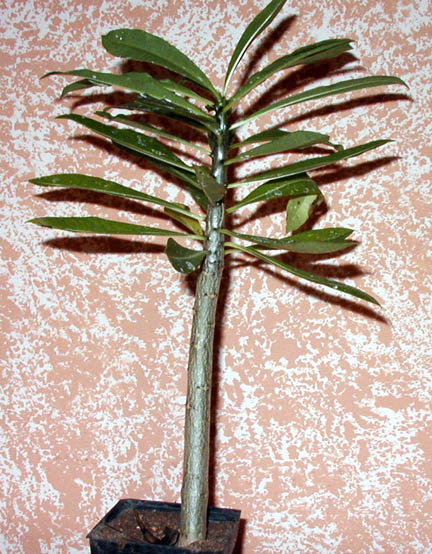Pachypodium meridionale: (102, 11, 347, 537)
